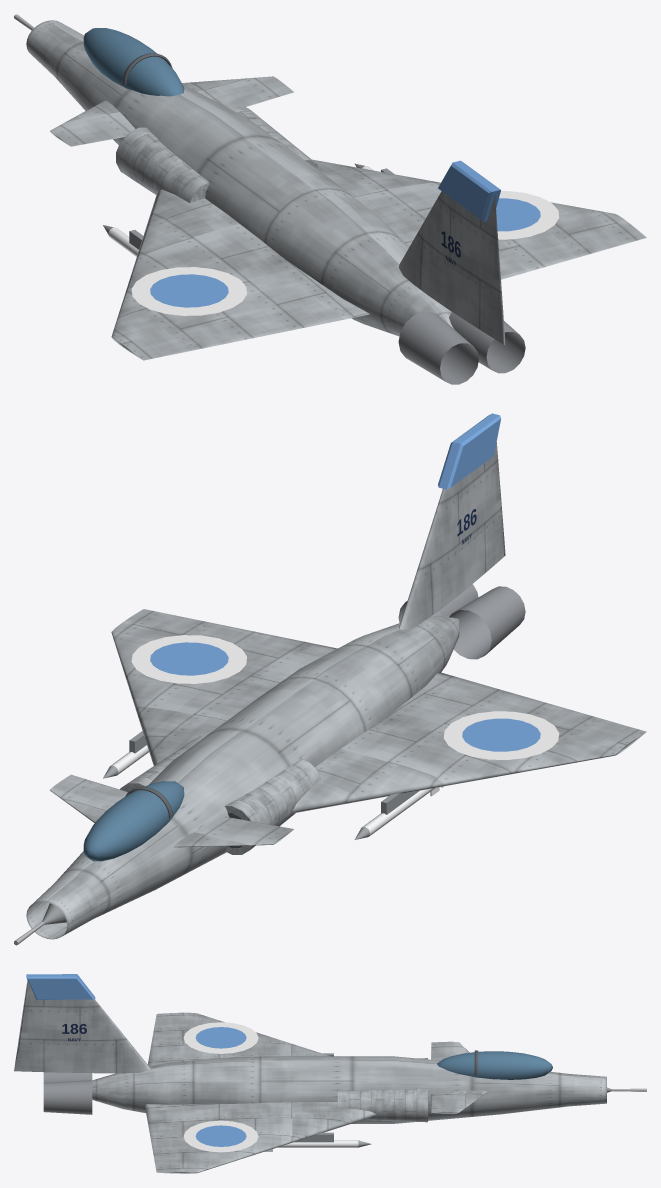
Rendered from rafale.glb.
3 renders of one model, top to bottom at view 1: azimuth 30°, elevation 25°; view 2: azimuth 150°, elevation 25°; view 3: azimuth 270°, elevation 25°, orthographic. The views are drawn at different scales.
Visible parts, largest first — view 1: detail (×5), part (×5); view 2: detail (×5), part (×6); view 3: detail (×5), part (×7).
Part boxes in pixels (box(x1,y1,x2,y2)): detail (×5): box(26, 20, 646, 360); part (×5): box(83, 28, 559, 384); detail (×5): box(26, 442, 646, 939); part (×6): box(83, 413, 559, 861); detail (×5): box(14, 980, 606, 1173); part (×7): box(26, 974, 552, 1152).
Bounding box in the file's own units: 10.8 × 4.58 × 18.2.
Materials: 14 (3 with a texture image).
